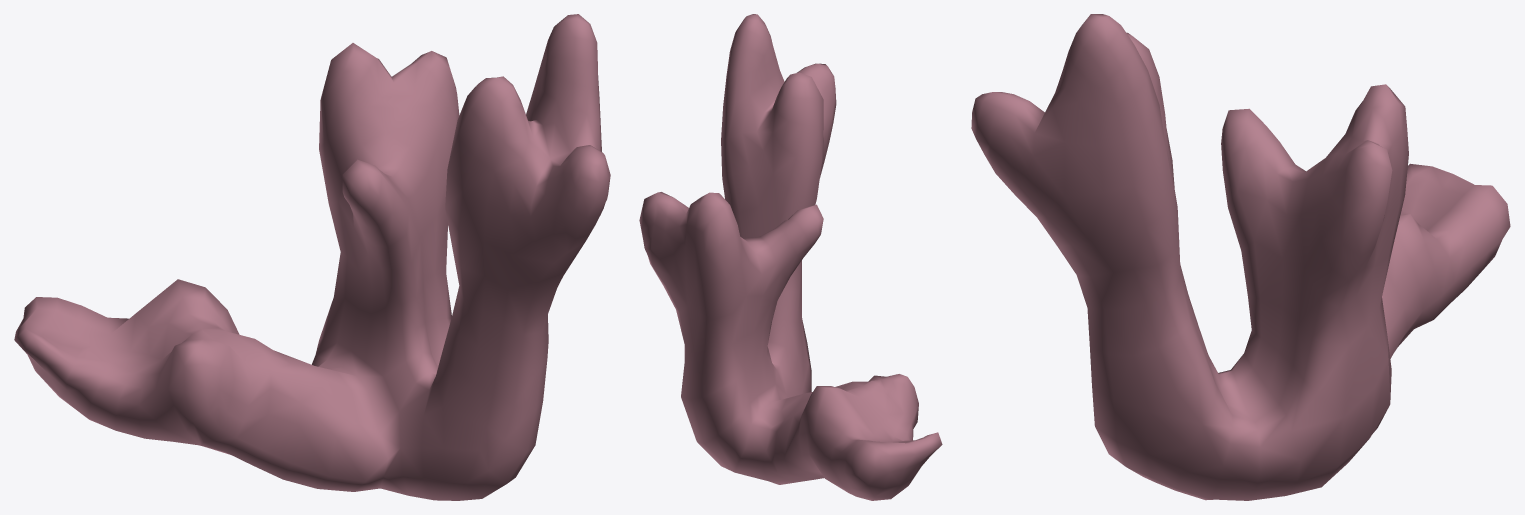
The model's file is coral.fbx.
3 views of the same model, side by side, from view 1: azimuth 30°, elevation 25°; view 2: azimuth 150°, elevation 25°; view 3: azimuth 270°, elevation 25° (orthographic). The views are drawn at different scales.
Parts seen in each view (by area): view 1: pSphere7; view 2: pSphere7; view 3: pSphere7.
Part boxes in pixels (box(x1,y1,x2,y2)): pSphere7: box(14, 14, 610, 500); pSphere7: box(639, 14, 942, 500); pSphere7: box(971, 14, 1510, 500).
Bounding box in the file's own units: 0.5027 × 0.5777 × 0.5421.
